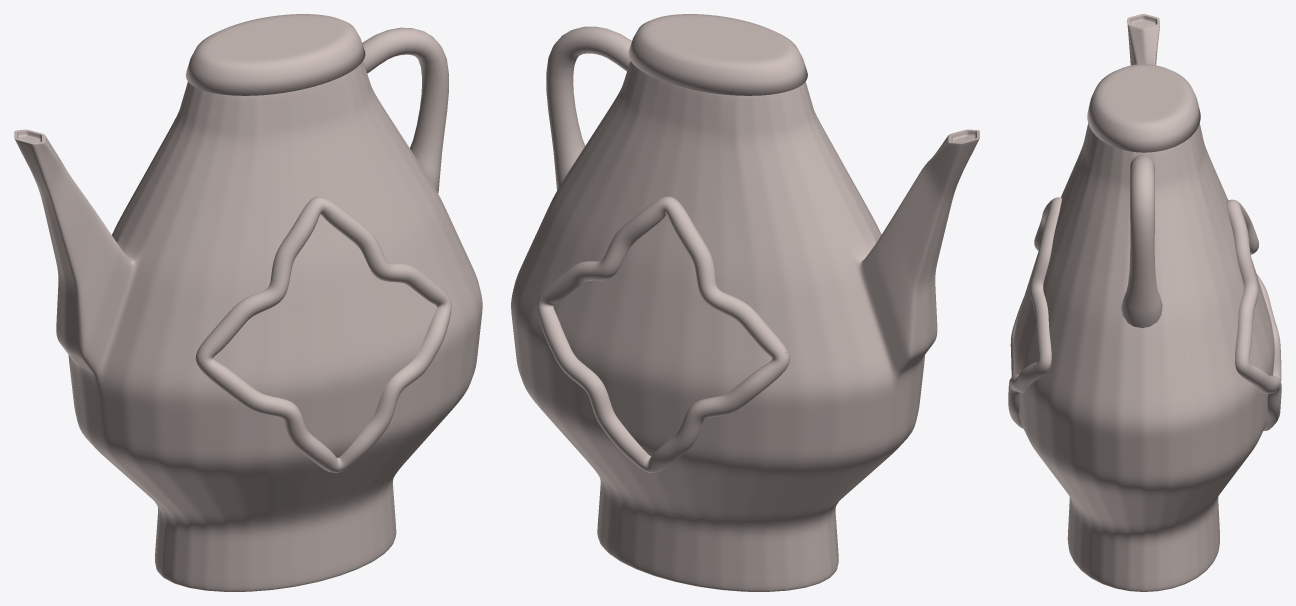
Rendered from TeaPot Magic.glb.
3 views of the same model, side by side, from view 1: azimuth 30°, elevation 25°; view 2: azimuth 150°, elevation 25°; view 3: azimuth 270°, elevation 25° (orthographic). The views are drawn at different scales.
Visible parts, largest first — view 1: TeaPot_Magic; view 2: TeaPot_Magic; view 3: TeaPot_Magic.
Part boxes in pixels (x1=…): TeaPot_Magic: x1=14, y1=14, x2=482, y2=591; TeaPot_Magic: x1=511, y1=14, x2=979, y2=591; TeaPot_Magic: x1=1008, y1=14, x2=1281, y2=591.
Bounding box in the file's own units: 3.57 × 3.85 × 2.12.
1 material, 1 textured.
